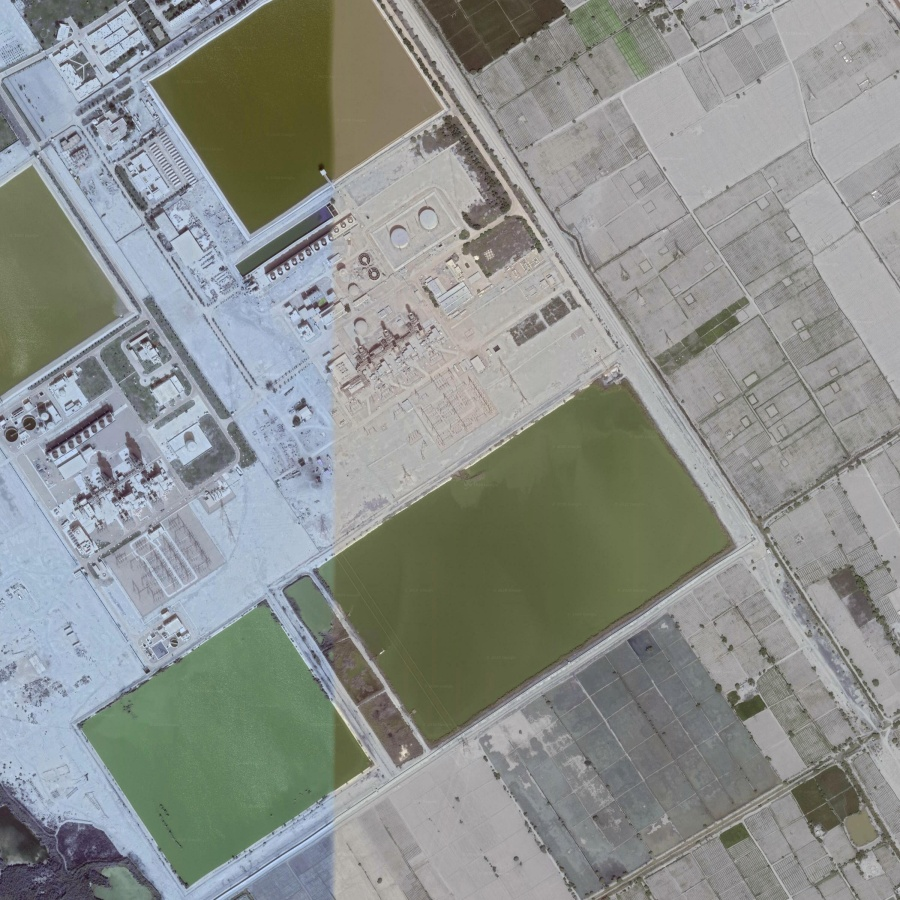PowerPlant: (1, 328, 243, 649), (283, 207, 478, 400)
